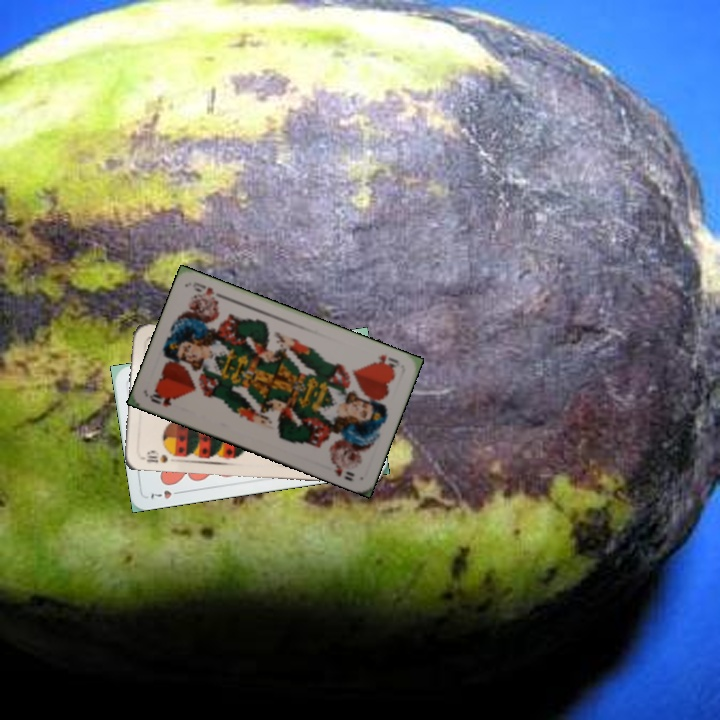H7: (147, 486, 185, 502)
HO: (369, 350, 402, 372), (146, 388, 178, 410)
S10: (143, 447, 170, 465)
